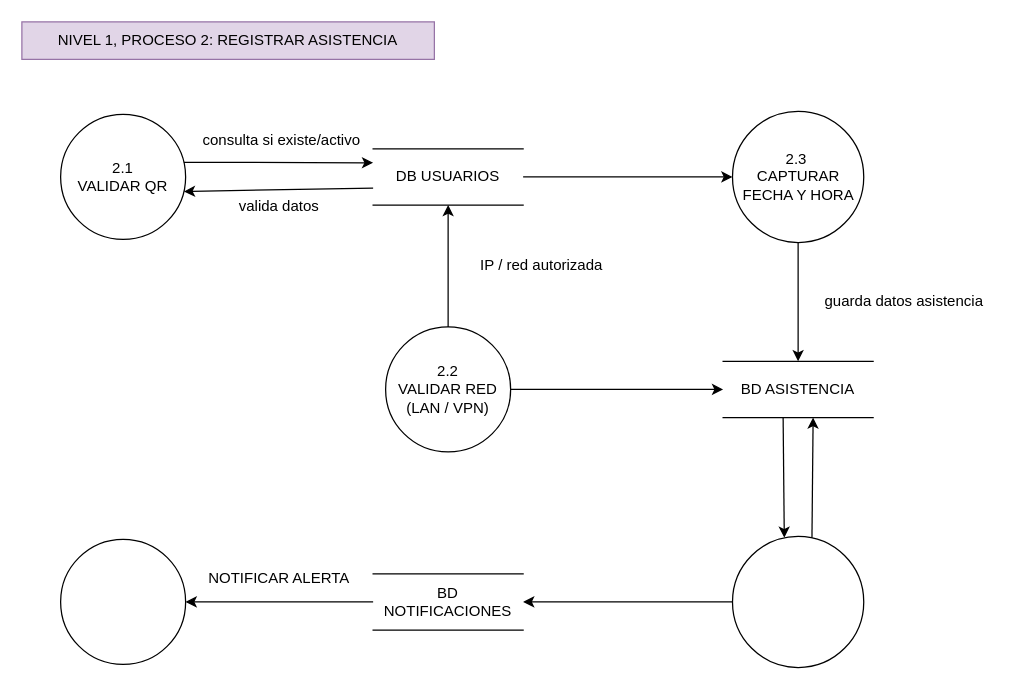
Image size: 1026x690. Some labels were removed from this diagram. The shapes that lost their labels are listed below. From the top down, each one's box as (x1, y1, x2, y2) in pixels, then its label:
(59, 538, 186, 664): 2.5 NOTIFICAR AL EMPLEADO
(731, 535, 864, 668): 2.4 VALIDAR HORARIO Y TOLERANCIA
